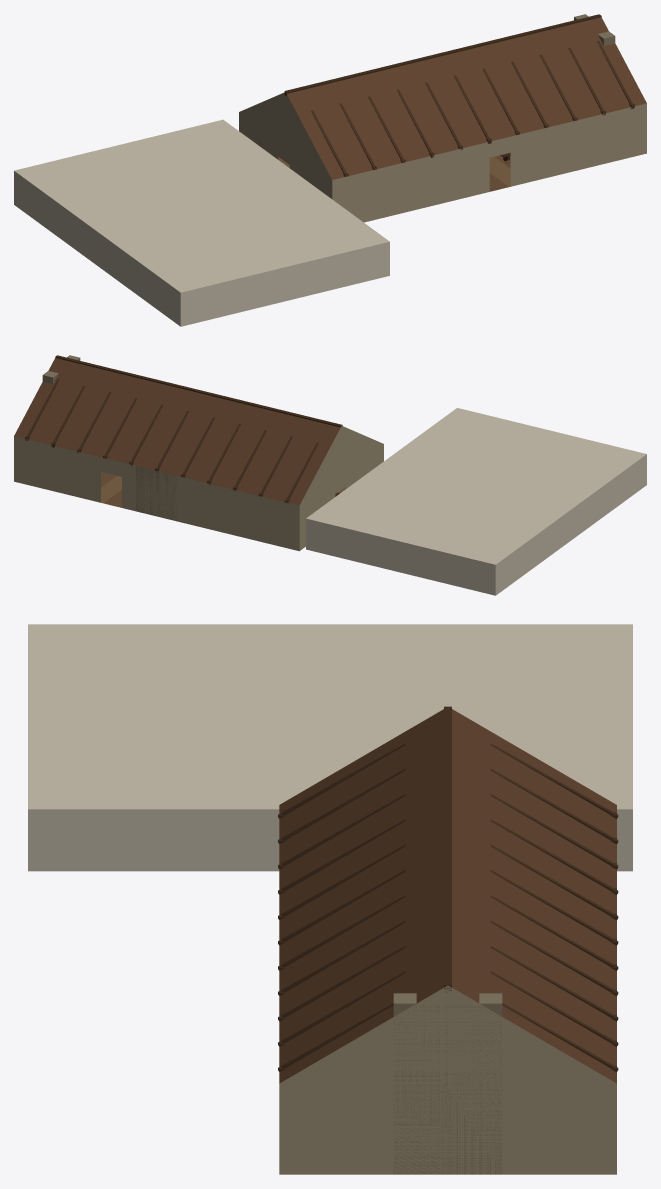
File: lodge_int.glb
3 views of the same model, one above another, from view 1: azimuth 30°, elevation 25°; view 2: azimuth 150°, elevation 25°; view 3: azimuth 270°, elevation 25° (orthographic). The views are drawn at different scales.
Visible parts, largest first — view 1: lodge_int; view 2: lodge_int; view 3: lodge_int.
Part boxes in pixels (box(x1,y1,x2,y2)): lodge_int: box(14, 14, 646, 326); lodge_int: box(14, 355, 646, 595); lodge_int: box(28, 624, 632, 1174).
Size of the model in its own units: 55.8 by 10.4 by 30.1.
